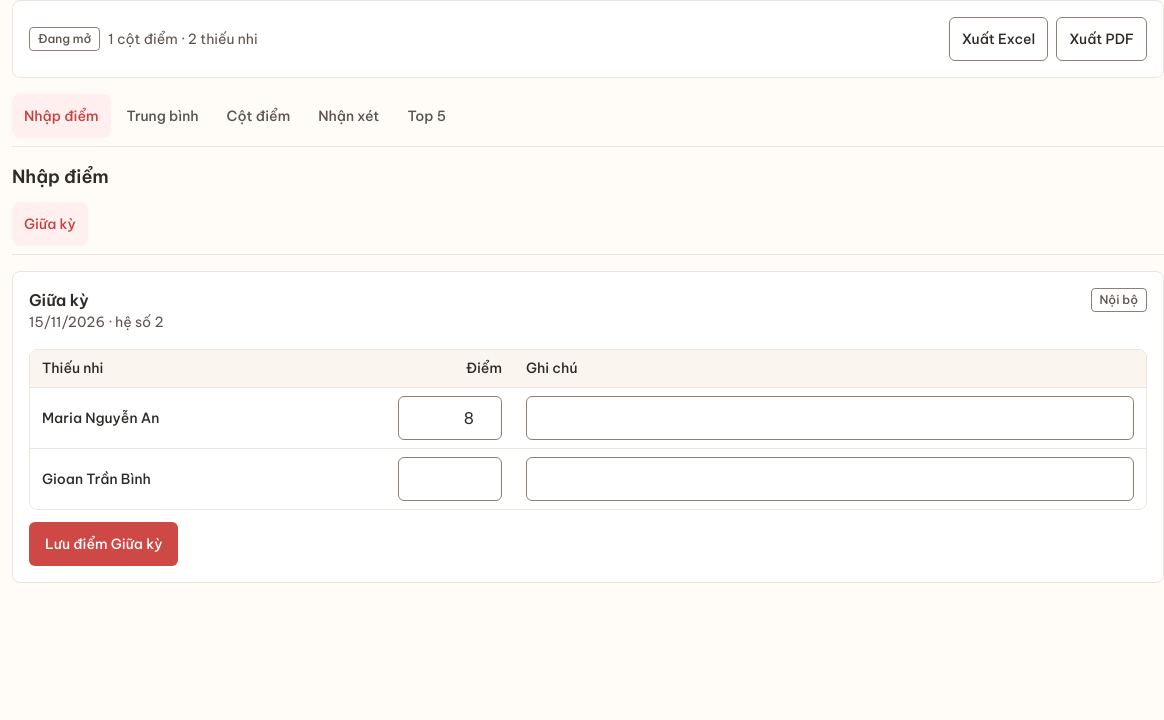
Test case: score entry unsaved protection › keeps failed saves dirty and clears after a successful retry
This screenshot has width=1164, height=720.
Type "8" into the number field named "Điểm Gioan Trần Bình" at [450, 479], box left=398, top=457, right=502, bottom=501
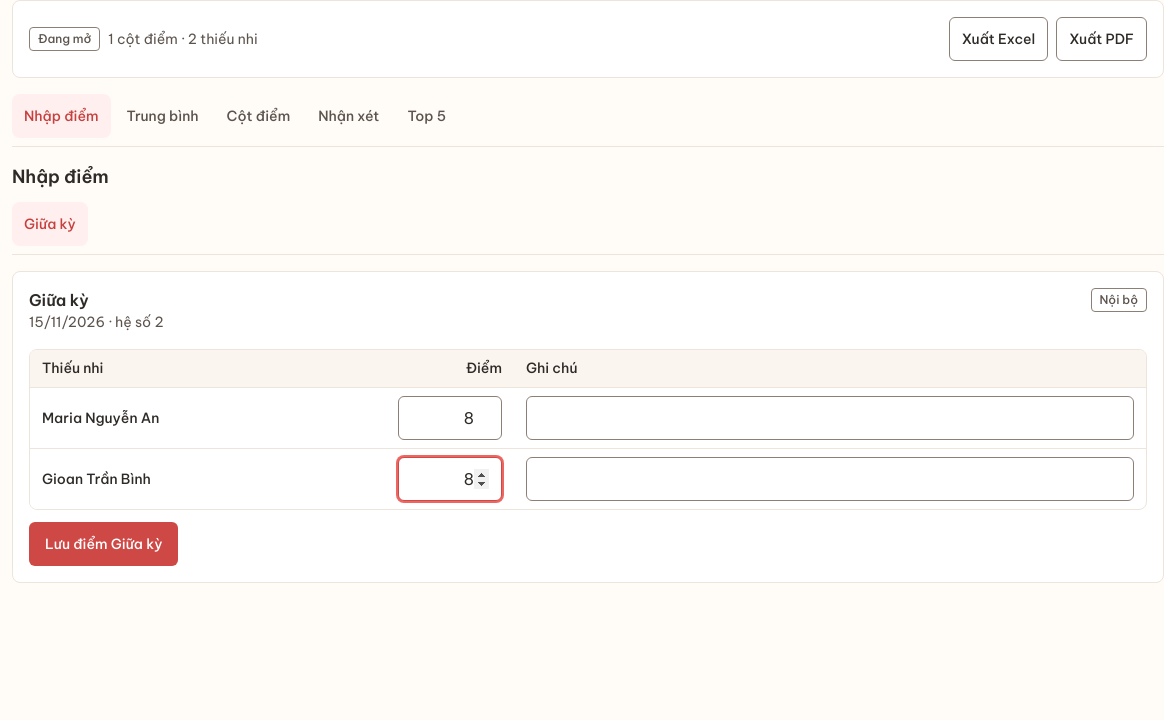
Click the button "Lưu điểm Giữa kỳ" at [104, 544], box left=29, top=522, right=178, bottom=566
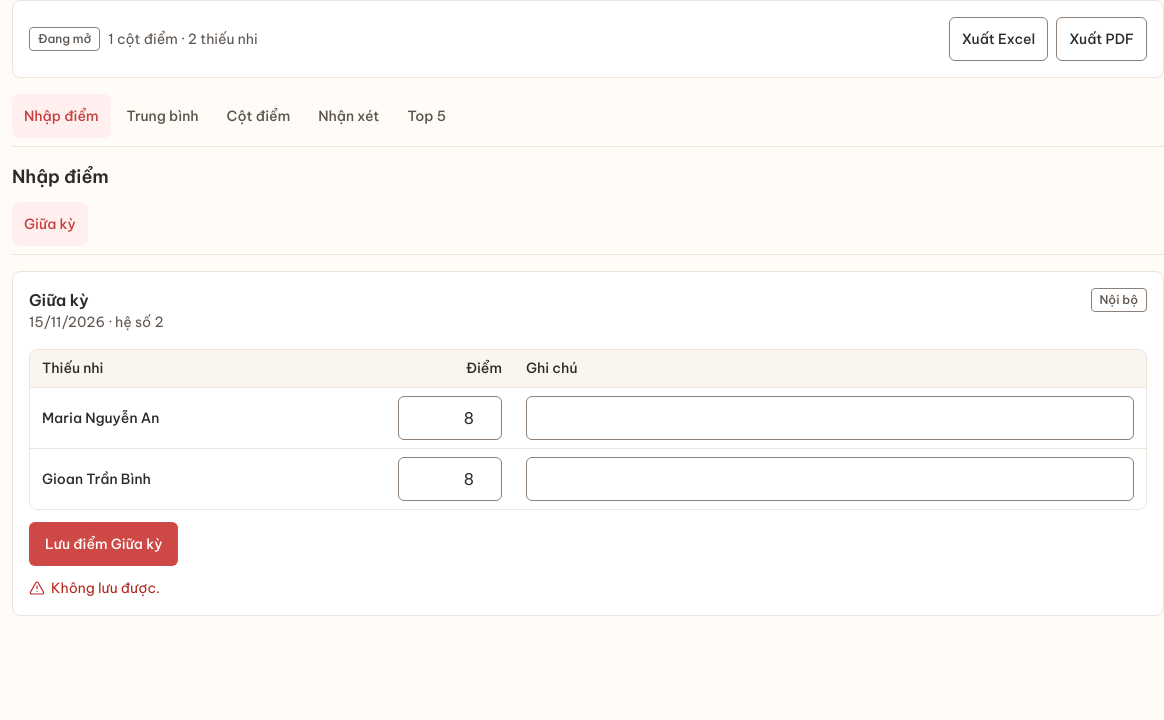
Expected: the text "Không lưu được." is shown, left=51, top=578, right=160, bottom=599
Click the button "Lưu điểm Giữa kỳ" at [104, 544], box left=29, top=522, right=178, bottom=566
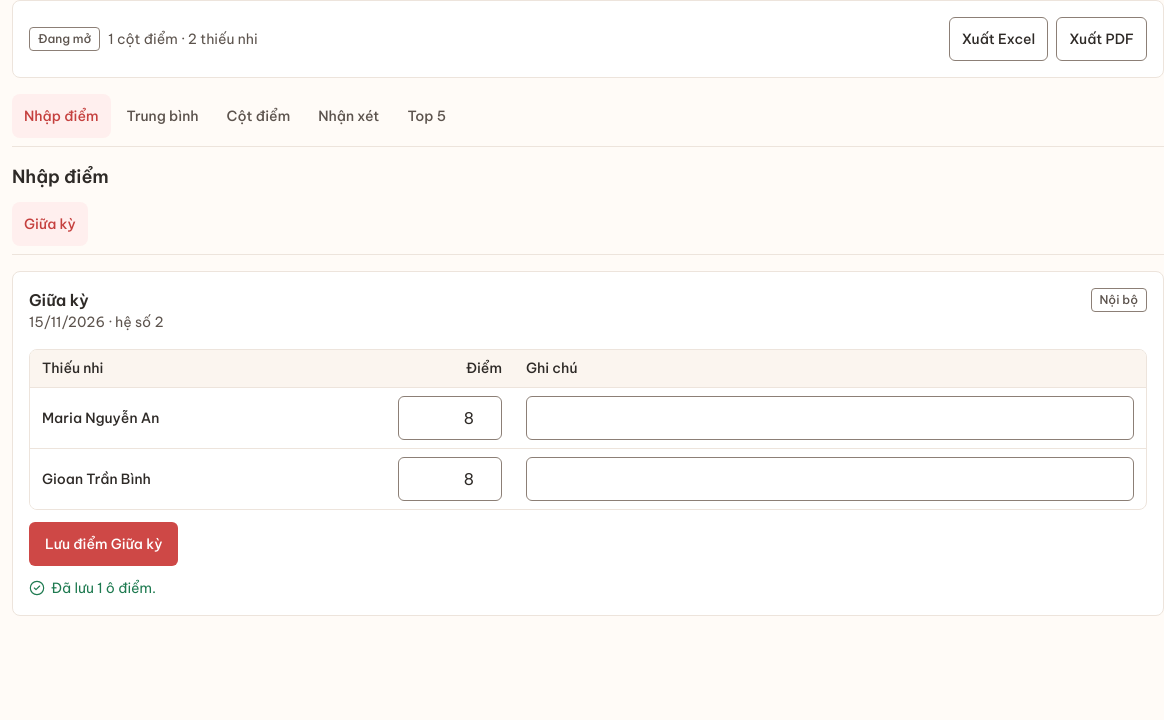
Expected: the text "Đã lưu 1 ô điểm." is shown, left=51, top=578, right=156, bottom=599
